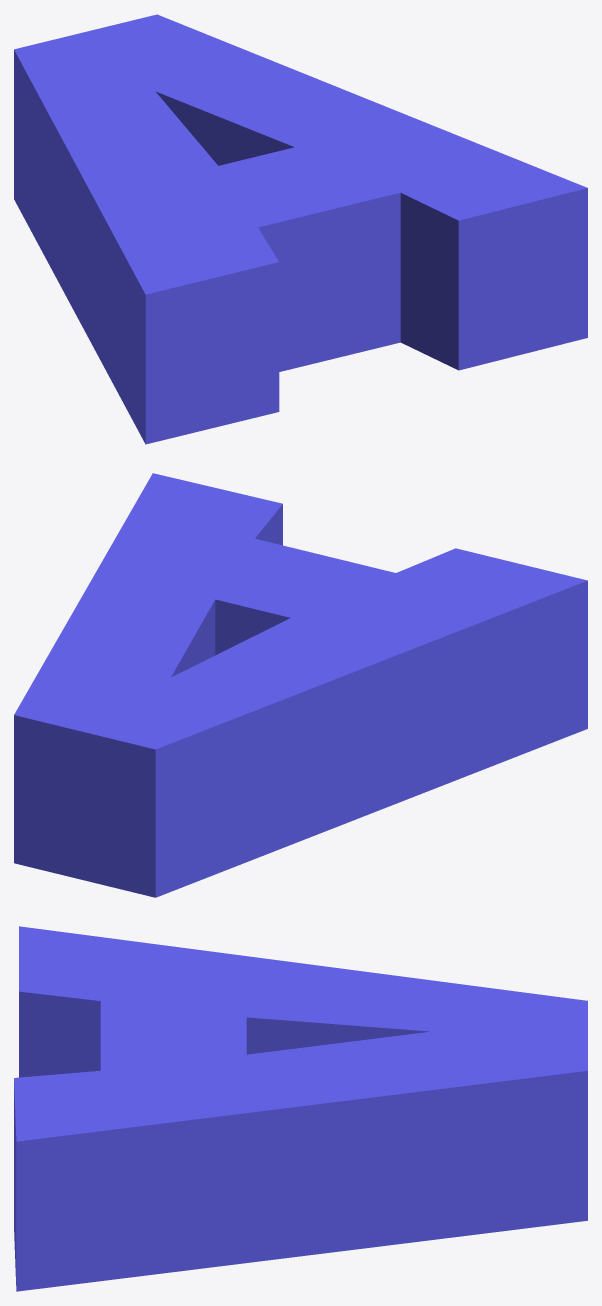
3 renders of one model, top to bottom at view 1: azimuth 30°, elevation 25°; view 2: azimuth 150°, elevation 25°; view 3: azimuth 270°, elevation 25°, orthographic.
Visible parts, largest first — view 1: A1; view 2: A1; view 3: A1.
Boxes of the visible parts, <box> form: A1: <box>14,14,587,444</box>; A1: <box>14,473,587,897</box>; A1: <box>14,926,587,1291</box>.
Size of the model in its own units: 0.4621 by 0.15 by 0.5203.
